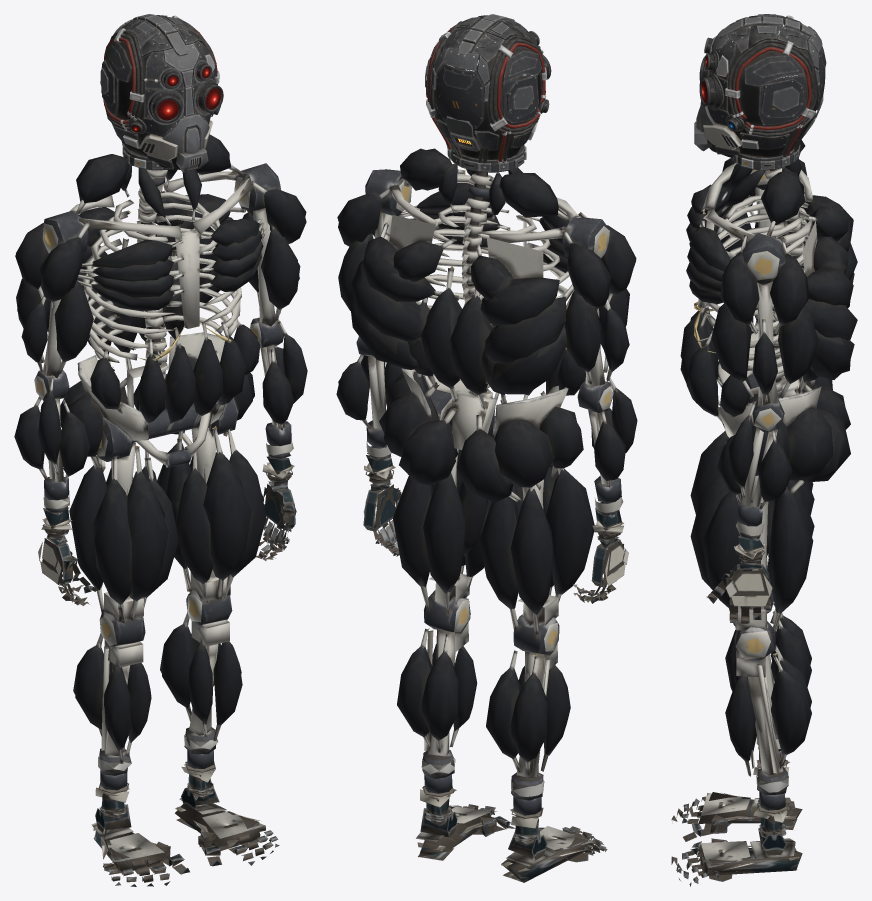
Rendered from red_witness_d0_lod1.glb.
3 renders of one model, left to right at view 1: azimuth 30°, elevation 25°; view 2: azimuth 150°, elevation 25°; view 3: azimuth 270°, elevation 25°, orthographic. The views are drawn at different scales.
Parts seen in each view (by area): view 1: CHEST, THIGH_R, HEAD, THIGH_L, SPINE, SHIN_L, SHIN_R, PELVIS, UPPER_ARM_R, FOREARM_R, FOOT_L, FOOT_R (+5 smaller); view 2: CHEST, THIGH_R, THIGH_L, HEAD, SHIN_R, SHIN_L, SPINE, UPPER_ARM_R, PELVIS, FOOT_R, FOREARM_R, FOOT_L (+5 smaller); view 3: CHEST, HEAD, THIGH_L, SHIN_L, UPPER_ARM_L, FOREARM_L, FOOT_L, SPINE, HAND_L, FOOT_R, THIGH_R, SHIN_R (+3 smaller).
Boxes of the visible parts, x1,y1,x2,y2 form: CHEST: (15, 134, 306, 362); THIGH_R: (60, 367, 178, 648); HEAD: (100, 14, 223, 172); THIGH_L: (133, 350, 266, 627); SPINE: (87, 178, 260, 433); SHIN_L: (160, 612, 242, 768); SHIN_R: (73, 633, 151, 790); PELVIS: (77, 332, 238, 467); UPPER_ARM_R: (16, 278, 93, 401); FOREARM_R: (14, 375, 90, 512); FOOT_L: (175, 761, 279, 866); FOOT_R: (91, 783, 189, 886); CHEST: (337, 148, 636, 394); THIGH_R: (456, 391, 594, 655); THIGH_L: (379, 371, 491, 633); HEAD: (425, 14, 551, 172); SHIN_R: (486, 644, 570, 815); SHIN_L: (397, 622, 477, 793); SPINE: (408, 171, 585, 409); UPPER_ARM_R: (564, 288, 629, 412); PELVIS: (401, 368, 568, 467); FOOT_R: (501, 807, 607, 882); FOREARM_R: (588, 378, 637, 515); FOOT_L: (416, 786, 515, 860); CHEST: (686, 140, 857, 379); HEAD: (694, 14, 826, 170); THIGH_L: (690, 388, 850, 662); SHIN_L: (725, 644, 811, 810); UPPER_ARM_L: (711, 281, 818, 433); FOREARM_L: (717, 401, 792, 539); FOOT_L: (671, 802, 802, 886); SPINE: (680, 169, 818, 421); HAND_L: (706, 532, 773, 623); FOOT_R: (671, 760, 802, 841); THIGH_R: (690, 376, 850, 613); SHIN_R: (725, 603, 811, 765).
Bounding box in the file's own units: 0.7415 × 2.08 × 0.435.
Materials: 2 (2 with a texture image).
